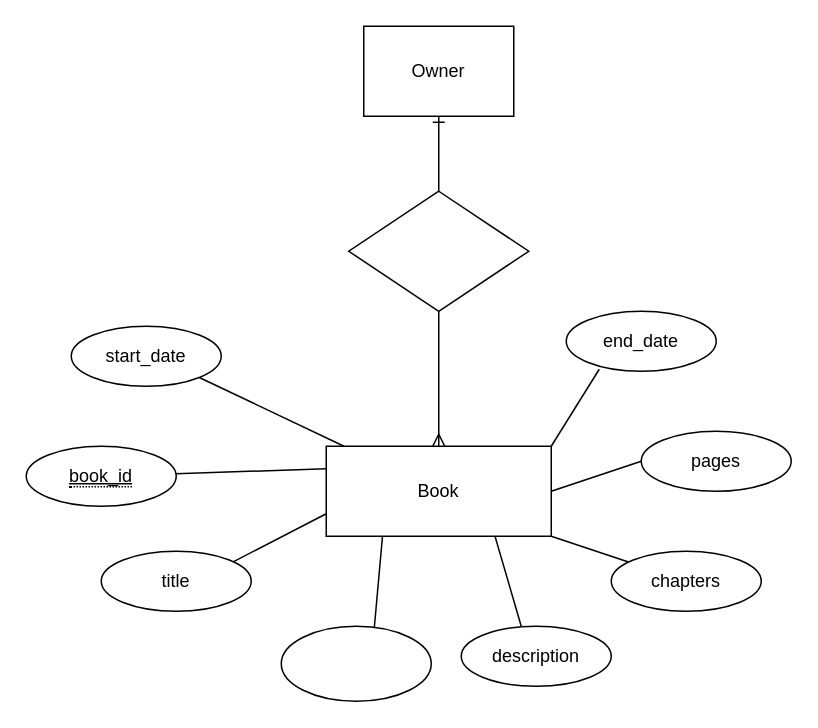
Some shapes in this 818 by 728 pixel diagram are drawn without their labels. Each missing label, with the centre of its shape:
author: point 355,663
own: point 438,250
